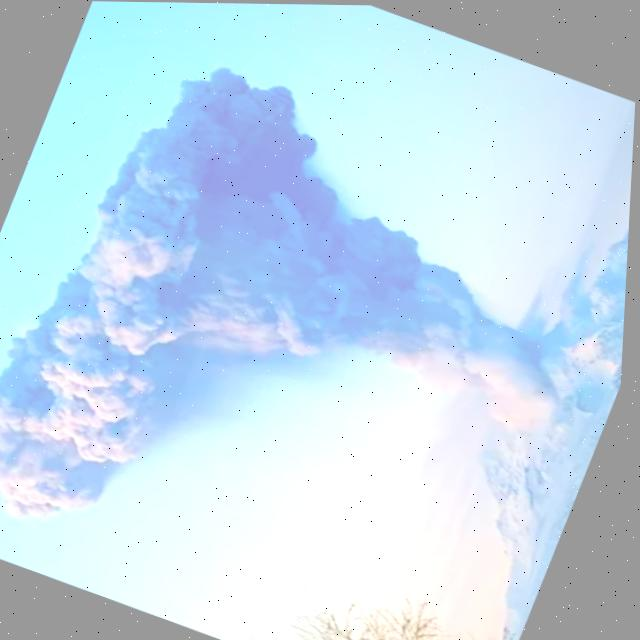Smoke: (0, 25, 636, 640)
